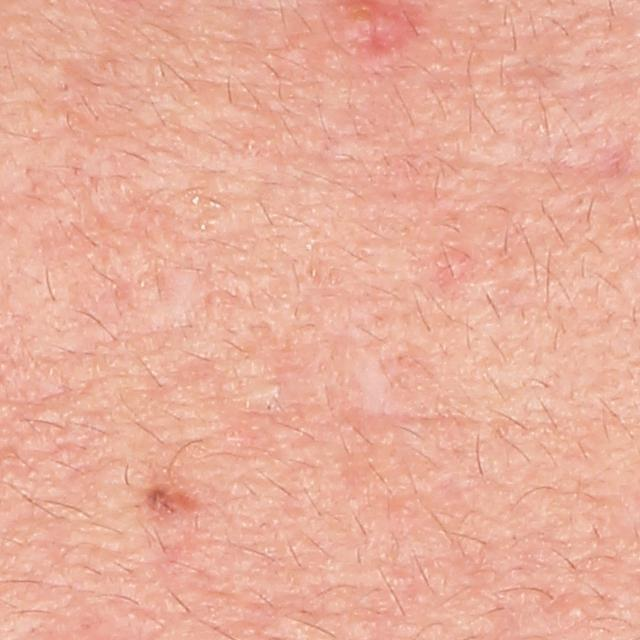comedo: (550, 588, 600, 632)
nevus: (142, 481, 203, 529)
